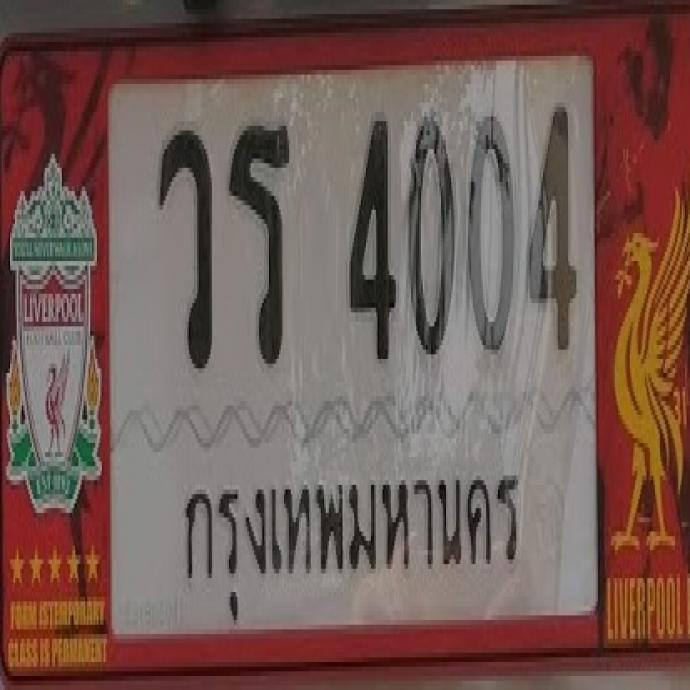0: (405, 111, 454, 354), (465, 106, 513, 352)
4: (527, 99, 576, 348), (346, 112, 395, 360)
A35: (226, 120, 288, 364)
A37: (156, 123, 212, 367)
BKK: (171, 451, 528, 624)
